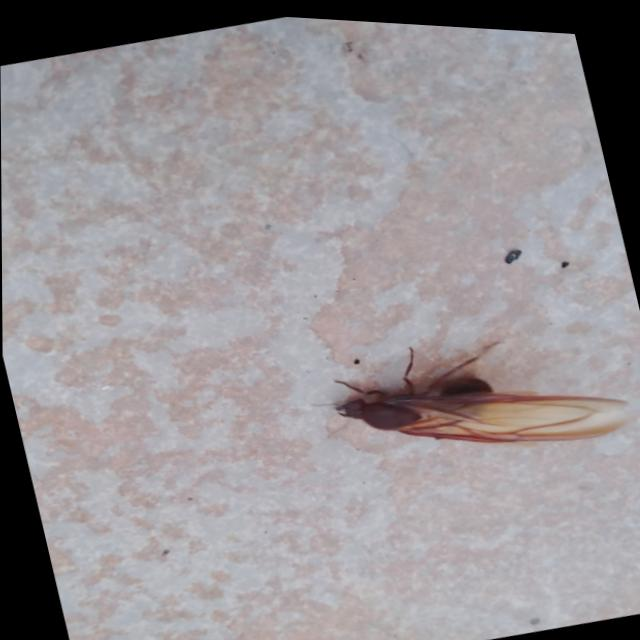Alive-Female-Alate: (299, 288, 639, 495)
